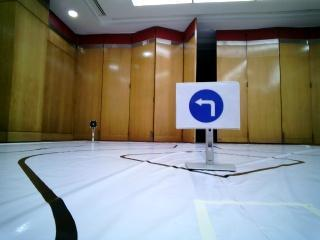left: (180, 88, 241, 129)
